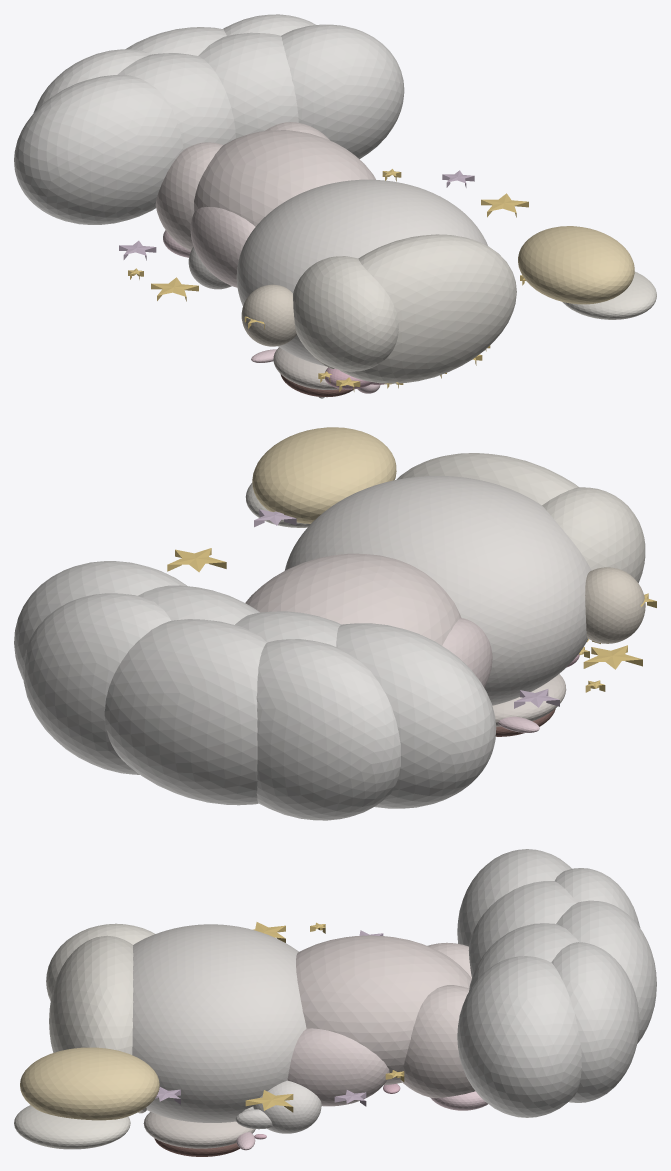
Rendered from pip.glb.
3 views of the same model, one above another, from view 1: azimuth 30°, elevation 25°; view 2: azimuth 150°, elevation 25°; view 3: azimuth 270°, elevation 25° (orthographic). The views are drawn at different scales.
Visible parts, largest first — view 1: cloud_puff_0, cap_crown, large_skull_head, cloud_puff_3, baby_torso, cap_droop, moon, cloud_puff_2, cloud_puff_1, left_leg, left_sleeve, cap_pom (+6 smaller); view 2: large_skull_head, cloud_puff_5, cloud_puff_4, cloud_puff_0, cloud_puff_6, baby_torso, moon, cap_droop, cloud_puff_3, cap_crown, cap_pom, cloud_puff_2 (+5 smaller); view 3: large_skull_head, cloud_puff_3, baby_torso, cloud_puff_6, cap_crown, moon, right_leg, right_sleeve, cloud_puff_5, cloud_puff_0, cloud_puff_1, moon_cutout (+10 smaller).
Boxes of the visible parts, <box> form: cloud_puff_0: <box>14,75,183,224</box>; cap_crown: <box>339,234,516,383</box>; large_skull_head: <box>236,179,487,366</box>; cloud_puff_3: <box>281,24,404,159</box>; baby_torso: <box>194,130,375,226</box>; cap_droop: <box>293,256,398,371</box>; moon: <box>518,226,634,304</box>; cloud_puff_2: <box>198,32,298,138</box>; cloud_puff_1: <box>117,53,235,149</box>; left_leg: <box>155,142,223,250</box>; left_sleeve: <box>190,206,255,287</box>; cap_pom: <box>241,284,296,346</box>; large_skull_head: <box>284,476,591,705</box>; cloud_puff_5: <box>104,619,266,805</box>; cloud_puff_4: <box>256,639,400,820</box>; cloud_puff_0: <box>336,623,496,808</box>; cloud_puff_6: <box>23,593,170,774</box>; baby_torso: <box>245,553,461,645</box>; moon: <box>252,427,396,523</box>; cap_droop: <box>542,487,645,582</box>; cloud_puff_3: <box>14,561,187,679</box>; cap_crown: <box>396,453,578,504</box>; cap_pom: <box>585,567,645,643</box>; cloud_puff_2: <box>138,585,259,624</box>; large_skull_head: <box>132,924,306,1122</box>; cloud_puff_3: <box>457,956,581,1117</box>; baby_torso: <box>296,935,471,1085</box>; cloud_puff_6: <box>551,942,639,1102</box>; cap_crown: <box>49,935,133,1054</box>; moon: <box>20,1047,159,1120</box>; right_leg: <box>400,985,475,1098</box>; right_sleeve: <box>287,1028,389,1106</box>; cloud_puff_5: <box>556,900,656,1043</box>; cloud_puff_0: <box>457,849,571,946</box>; cloud_puff_1: <box>468,881,577,977</box>; moon_cutout: <box>14,1105,130,1149</box>.
Bounding box in the file's own units: 3.34 × 1.65 × 4.41.
